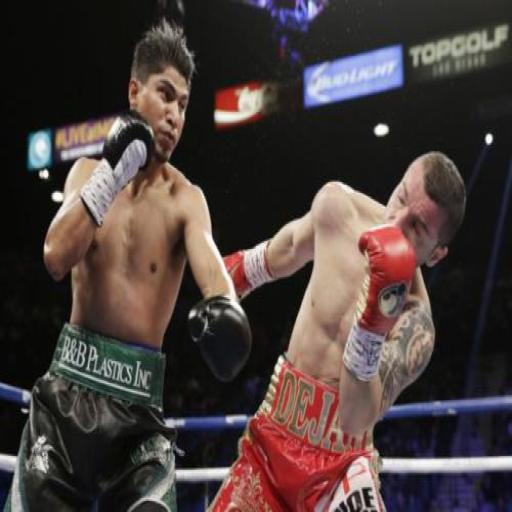boxing: (0, 17, 253, 511), (189, 148, 467, 510)
